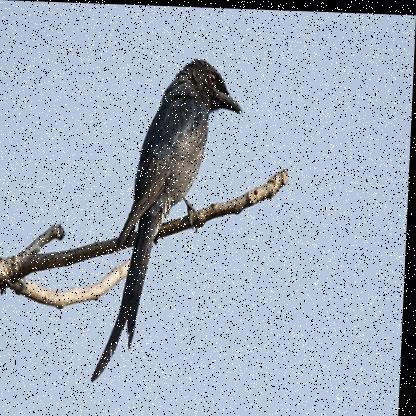Burung: (91, 54, 246, 388)
